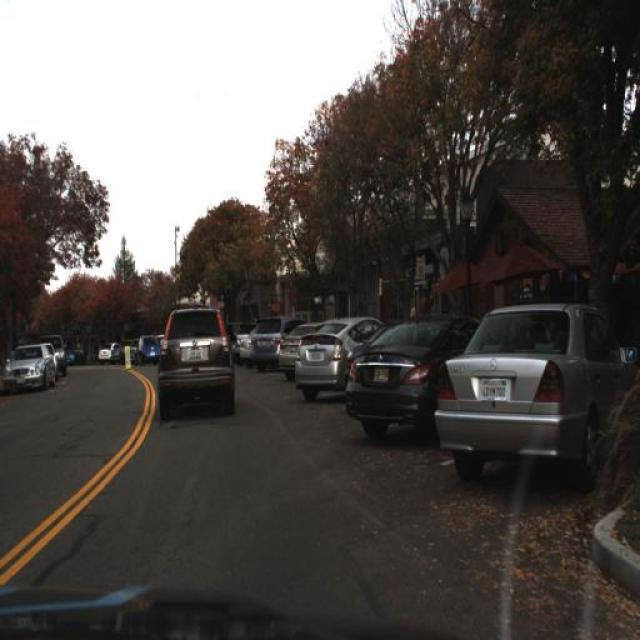car: (432, 298, 638, 490), (344, 313, 480, 441), (149, 297, 237, 419), (294, 316, 377, 400), (2, 340, 56, 395), (249, 315, 290, 373), (339, 328, 373, 396), (277, 322, 305, 376), (249, 319, 279, 369), (236, 323, 258, 367), (138, 334, 162, 364), (99, 338, 120, 361)
